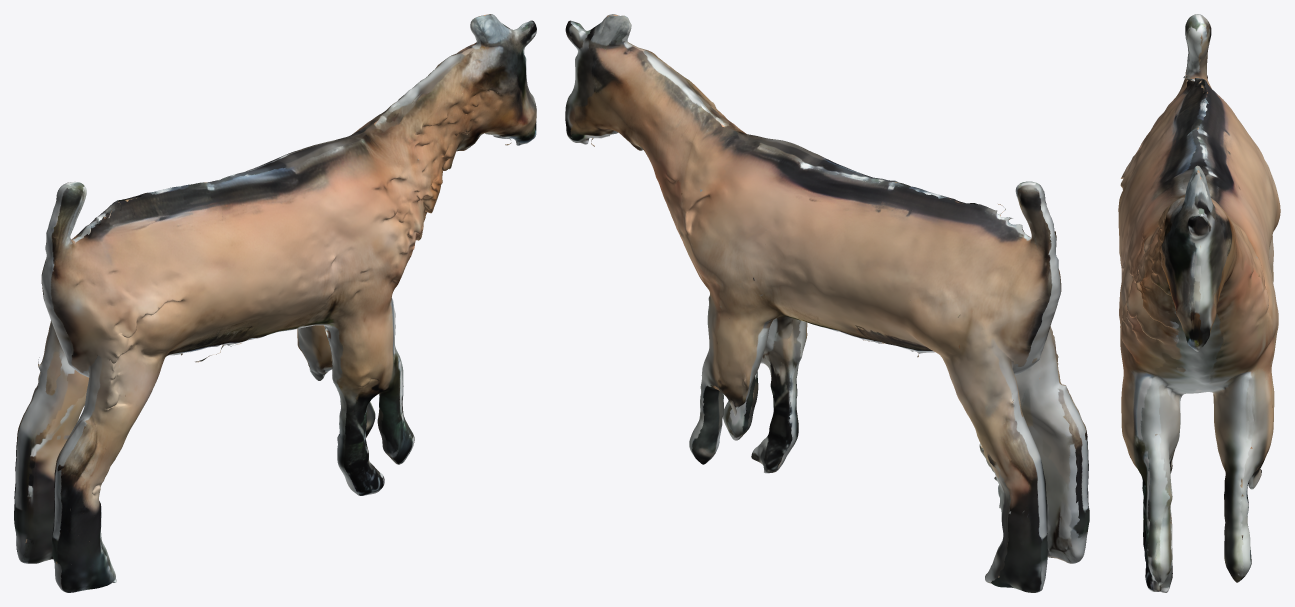
File: bebe.glb
3 views of the same model, side by side, from view 1: azimuth 30°, elevation 25°; view 2: azimuth 150°, elevation 25°; view 3: azimuth 270°, elevation 25° (orthographic). The views are drawn at different scales.
Parts seen in each view (by area): view 1: mesh; view 2: mesh; view 3: mesh.
Boxes of the visible parts, x1,y1,x2,y2 form: mesh: [14, 14, 536, 592]; mesh: [565, 14, 1089, 592]; mesh: [1118, 14, 1280, 592].
Bounding box in the file's own units: 1.54 × 1.35 × 0.3776.
1 material, 1 textured.
